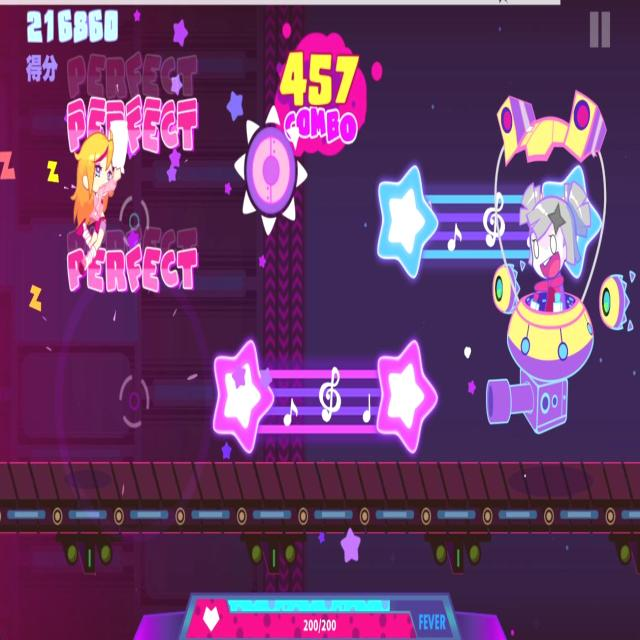ci: (233, 98, 309, 234)
hold: (370, 159, 604, 285), (210, 337, 442, 452)
qiangboss: (486, 90, 638, 432)
